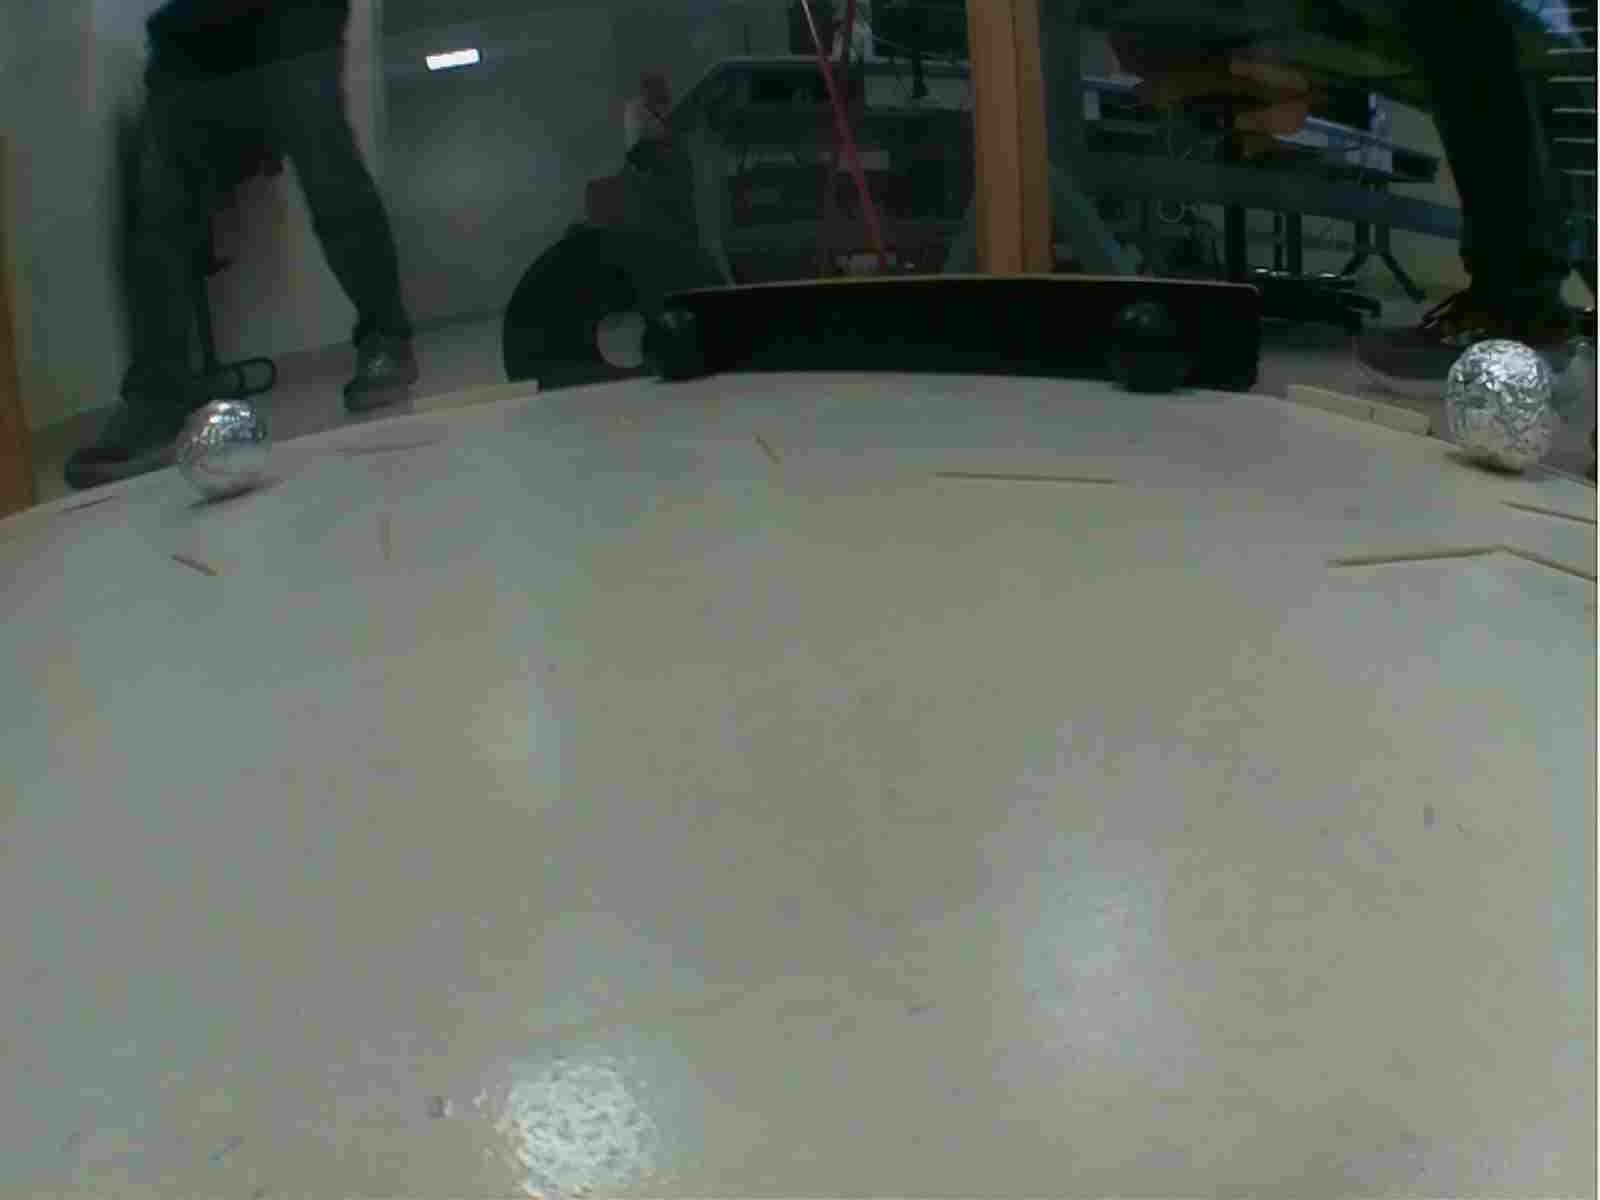bianca: (1443, 330, 1570, 476), (179, 401, 270, 504)
nera: (1100, 303, 1204, 396), (640, 303, 724, 384)
